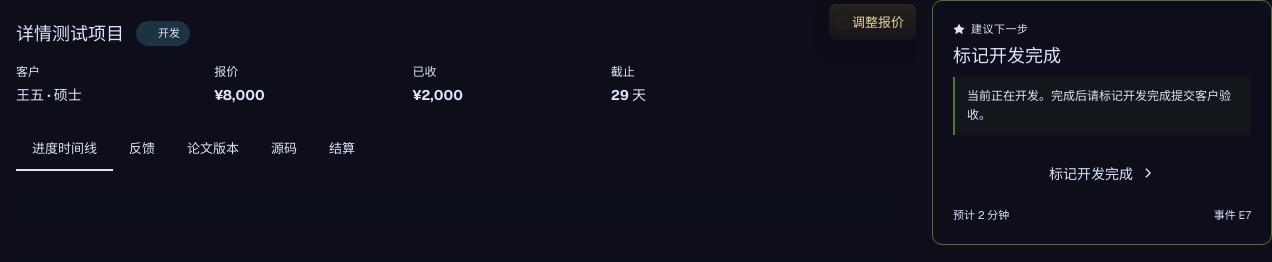
Test: ProjectDetailPage › 点击 "收款" tab → 渲染"+ 新增收款"按钮
The width and height of the screenshot is (1272, 262).
Click the tab "结算".
click(342, 148)  # box left=313, top=126, right=371, bottom=171
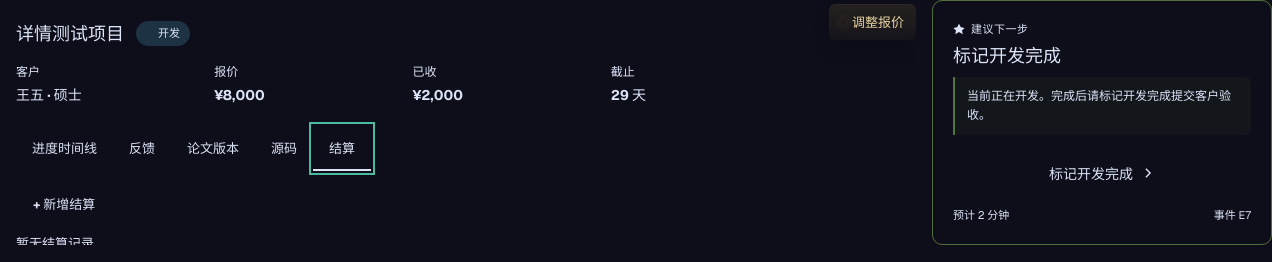
Result: the button "+ 新增结算" is shown at left=16, top=186, right=112, bottom=222
